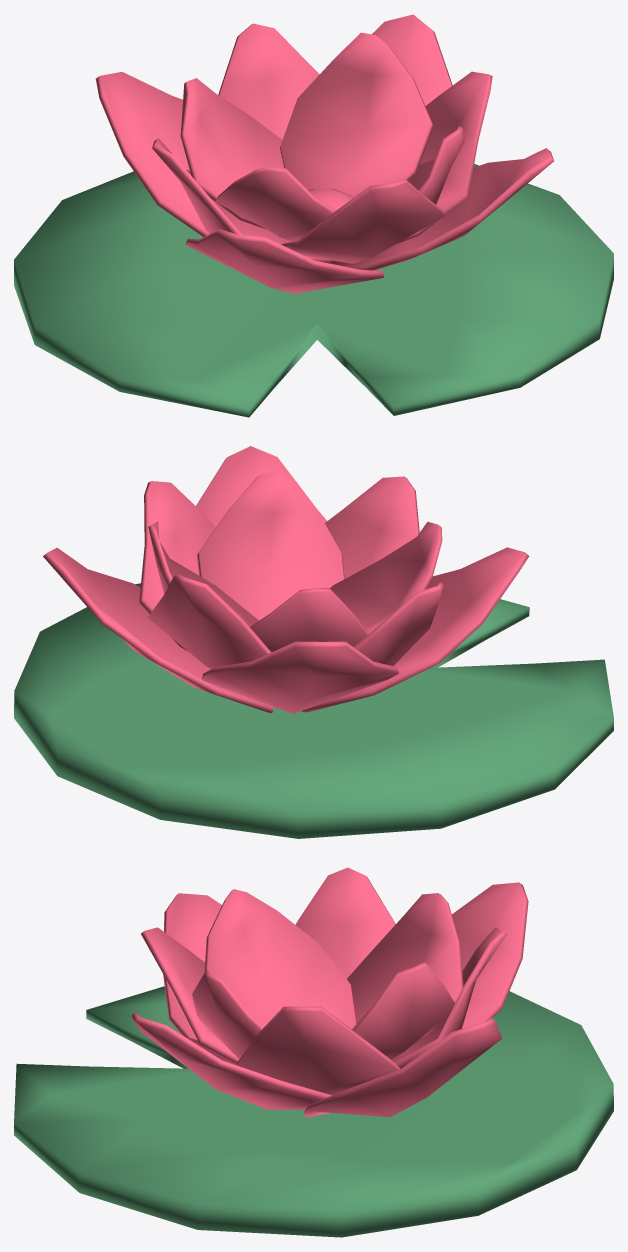
Rendered from lotus.fbx.
3 views of the same model, one above another, from view 1: azimuth 30°, elevation 25°; view 2: azimuth 150°, elevation 25°; view 3: azimuth 270°, elevation 25° (orthographic).
Visible parts, largest first — view 1: lotus; view 2: lotus; view 3: lotus.
Part boxes in pixels (<box>): lotus: <box>14,14,613,417</box>; lotus: <box>14,446,613,838</box>; lotus: <box>14,867,613,1237</box>.
Bounding box in the file's own units: 99.06 × 36.22 × 98.56.
